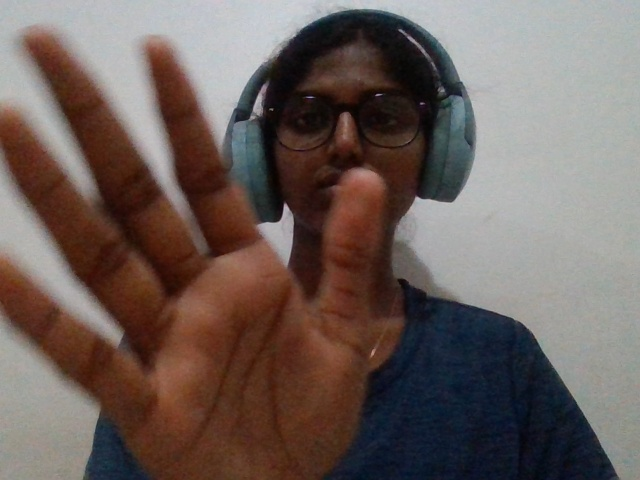Bye: (1, 16, 386, 480)
